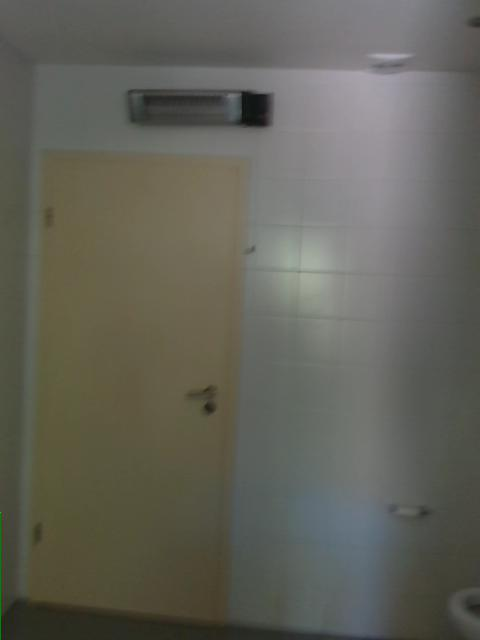door: (30, 150, 252, 626)
